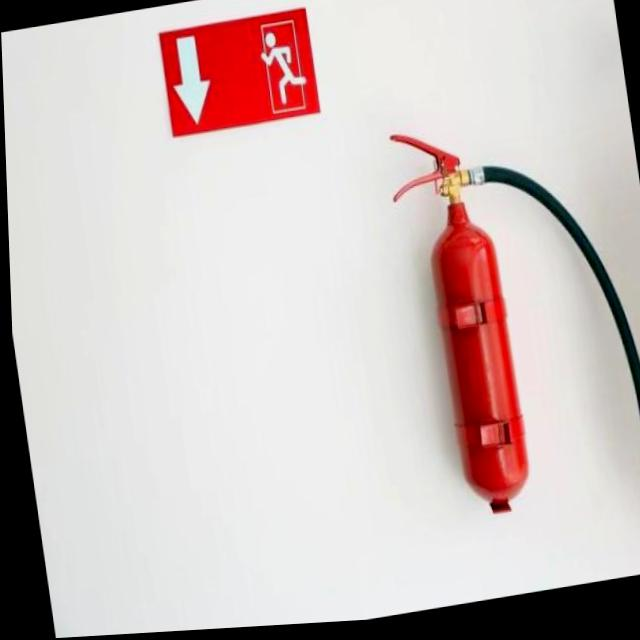FireExtinguisher: (378, 99, 640, 542)
